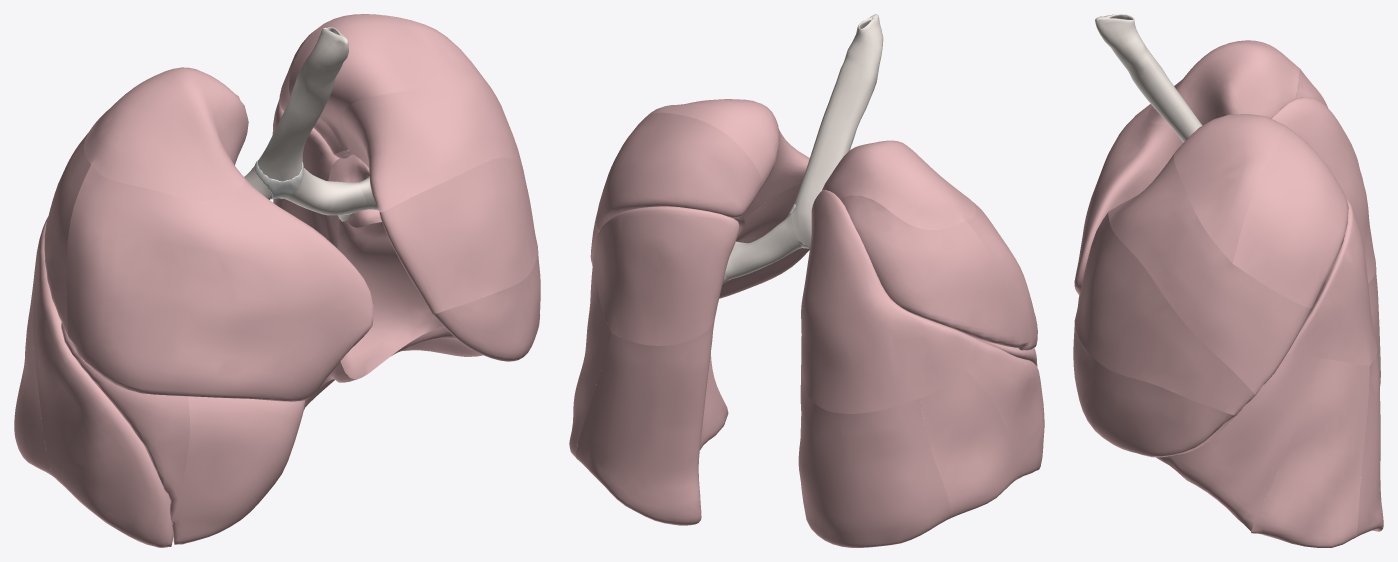
File: female-respiratory.glb
The picture shows the model from 3 angles, left to right: view 1: azimuth 30°, elevation 25°; view 2: azimuth 150°, elevation 25°; view 3: azimuth 270°, elevation 25°; orthographic projection. The views are drawn at different scales.
Parts seen in each view (by area): view 1: VH_F_right_anterior_bronchopulmonary_segm, VH_F_right_anterior_basal_bronchopulmonary_segment, VH_F_lingula_superior_bronchopulmonary_segment, VH_F_right_apical_bronchopulmonary_segment, VH_F_left_anterior_bronchopulmonary_segment, VH_F_right_medial_bronchopulmonary_segment, VH_F_left_apical_bronchopulmonary_segment, VH_F_left_medial_basal_bronchopulmonary_segment, VH_F_lingula_inferior_bronchopulmonary_segment, VH_F_trachea, VH_F_right_lateral_bronchopulmonary_segmennt, VH_F_right_posterior_bronchopulmonary_segment (+9 smaller); view 2: VH_F_right_superior_bronchopulmonary_segment, VH_F_left_posterior_basal_bronchopulmonary_segment, VH_F_right_posterior_basal_bronchopulmonary_segment, VH_F_left_superior_bronchopulmonary_segment, VH_F_right_posterior_bronchopulmonary_segment, VH_F_left_posterior_bronchopulmonary_segment, VH_F_right_lateral_basal_bronchopulmonary_segment, VH_F_right_apical_bronchopulmonary_segment, VH_F_trachea, VH_F_right_anterior_basal_bronchopulmonary_segment, VH_F_left_apical_bronchopulmonary_segment, VH_F_right_anterior_bronchopulmonary_segm (+5 smaller); view 3: VH_F_left_anterior_bronchopulmonary_segment, VH_F_lingula_superior_bronchopulmonary_segment, VH_F_left_lateral_basal_bronchopulmonary_segment, VH_F_left_posterior_bronchopulmonary_segment, VH_F_left_anterior_basal_bronchopulmonary_segment, VH_F_lingula_inferior_bronchopulmonary_segment, VH_F_left_apical_bronchopulmonary_segment, VH_F_right_apical_bronchopulmonary_segment, VH_F_left_superior_bronchopulmonary_segment, VH_F_right_anterior_bronchopulmonary_segm, VH_F_right_superior_bronchopulmonary_segment, VH_F_trachea (+3 smaller).
Boxes of the visible parts, x1,y1,x2,y2 form: VH_F_right_anterior_bronchopulmonary_segm: [66, 165, 373, 401]; VH_F_right_anterior_basal_bronchopulmonary_segment: [32, 276, 173, 547]; VH_F_lingula_superior_bronchopulmonary_segment: [379, 157, 537, 314]; VH_F_right_apical_bronchopulmonary_segment: [83, 67, 248, 200]; VH_F_left_anterior_bronchopulmonary_segment: [342, 81, 522, 212]; VH_F_right_medial_bronchopulmonary_segment: [171, 396, 305, 544]; VH_F_left_apical_bronchopulmonary_segment: [289, 14, 489, 150]; VH_F_left_medial_basal_bronchopulmonary_segment: [337, 219, 442, 379]; VH_F_lingula_inferior_bronchopulmonary_segment: [433, 251, 540, 361]; VH_F_trachea: [251, 27, 348, 198]; VH_F_right_lateral_bronchopulmonary_segmennt: [61, 322, 189, 519]; VH_F_right_posterior_bronchopulmonary_segment: [44, 132, 90, 338]; VH_F_right_superior_bronchopulmonary_segment: [801, 190, 976, 413]; VH_F_left_posterior_basal_bronchopulmonary_segment: [576, 319, 728, 525]; VH_F_right_posterior_basal_bronchopulmonary_segment: [798, 371, 950, 547]; VH_F_left_superior_bronchopulmonary_segment: [593, 206, 739, 345]; VH_F_right_posterior_bronchopulmonary_segment: [840, 195, 1020, 347]; VH_F_left_posterior_bronchopulmonary_segment: [596, 112, 763, 230]; VH_F_right_lateral_basal_bronchopulmonary_segment: [920, 369, 1016, 519]; VH_F_right_apical_bronchopulmonary_segment: [822, 140, 975, 229]; VH_F_trachea: [791, 14, 883, 248]; VH_F_right_anterior_basal_bronchopulmonary_segment: [965, 338, 1044, 480]; VH_F_left_apical_bronchopulmonary_segment: [645, 99, 779, 186]; VH_F_right_anterior_bronchopulmonary_segm: [966, 199, 1037, 350]; VH_F_left_anterior_bronchopulmonary_segment: [1108, 154, 1312, 394]; VH_F_lingula_superior_bronchopulmonary_segment: [1074, 213, 1255, 415]; VH_F_left_lateral_basal_bronchopulmonary_segment: [1251, 358, 1369, 547]; VH_F_left_posterior_bronchopulmonary_segment: [1232, 126, 1348, 307]; VH_F_left_anterior_basal_bronchopulmonary_segment: [1156, 353, 1320, 532]; VH_F_lingula_inferior_bronchopulmonary_segment: [1073, 322, 1235, 457]; VH_F_left_apical_bronchopulmonary_segment: [1173, 114, 1285, 263]; VH_F_right_apical_bronchopulmonary_segment: [1147, 40, 1299, 125]; VH_F_left_superior_bronchopulmonary_segment: [1286, 198, 1377, 365]; VH_F_right_anterior_bronchopulmonary_segm: [1074, 104, 1182, 296]; VH_F_right_superior_bronchopulmonary_segment: [1271, 97, 1375, 283]; VH_F_trachea: [1095, 14, 1202, 142].
Size of the model in its own units: 0.2511 by 0.2567 by 0.1526.
